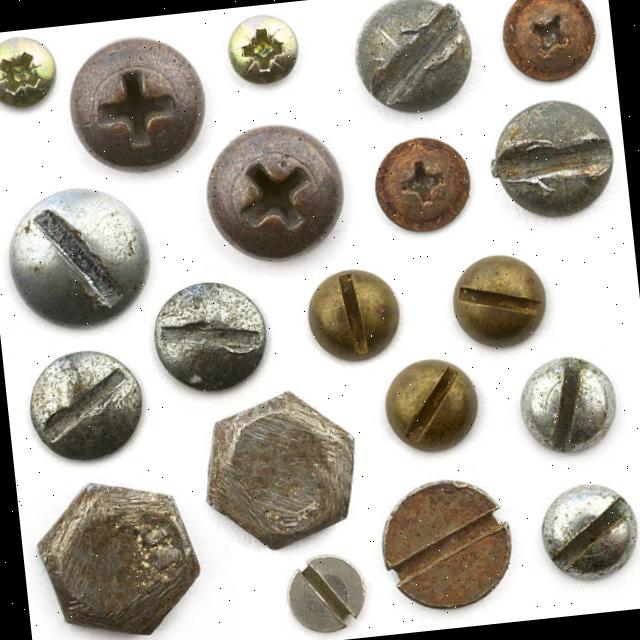Phillips: (192, 113, 358, 268), (64, 41, 210, 176), (368, 122, 480, 243), (478, 0, 616, 91)
Pozidriv: (216, 3, 311, 94), (0, 32, 67, 114)
Slotted: (0, 169, 160, 330), (359, 476, 530, 626), (478, 90, 631, 232), (2, 344, 147, 476), (336, 0, 481, 120), (152, 276, 277, 398), (382, 352, 492, 468), (294, 260, 409, 368), (528, 478, 640, 587), (444, 248, 559, 354), (518, 350, 626, 457), (275, 552, 371, 636)
